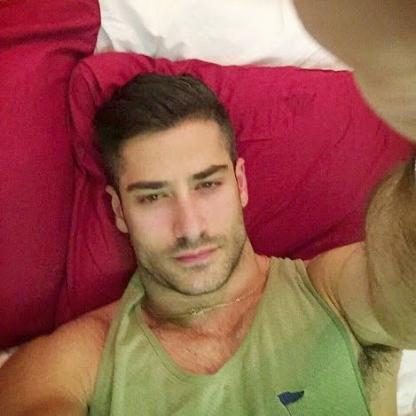Male: (106, 115, 250, 296)
